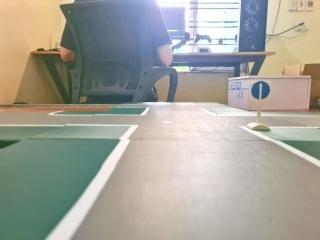straight: (248, 80, 273, 101)
